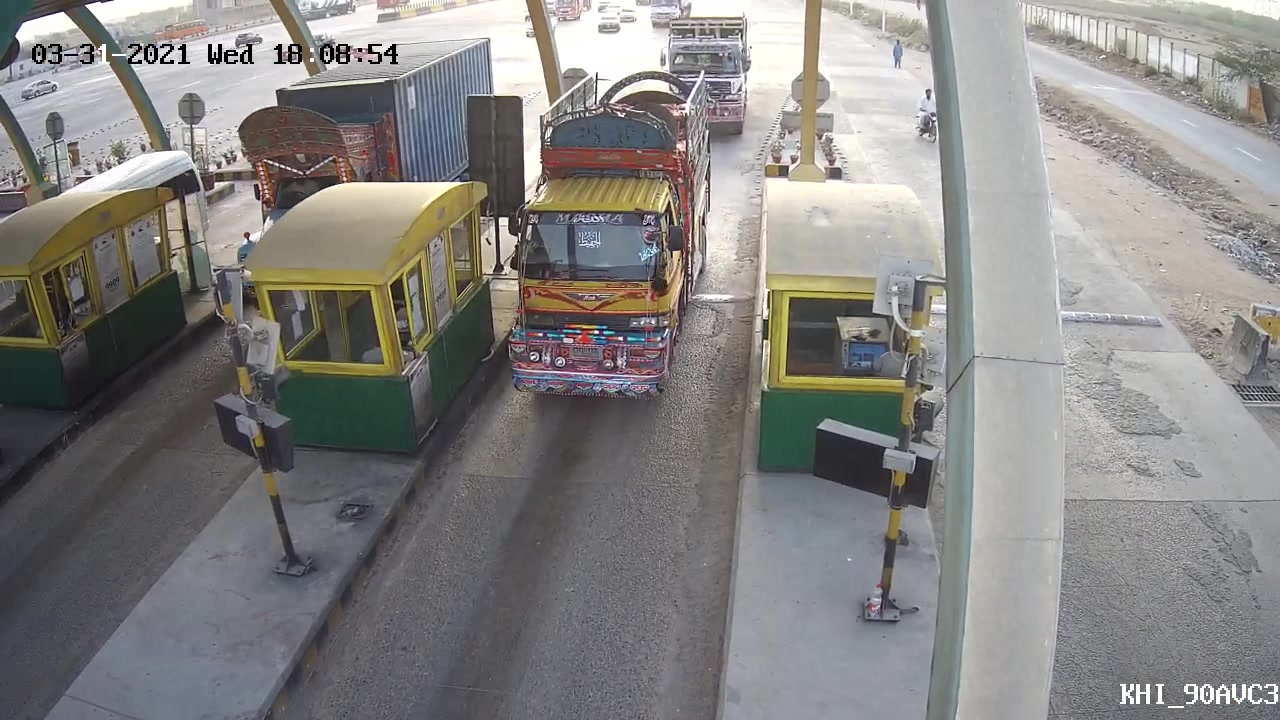F5: (498, 59, 722, 408)
